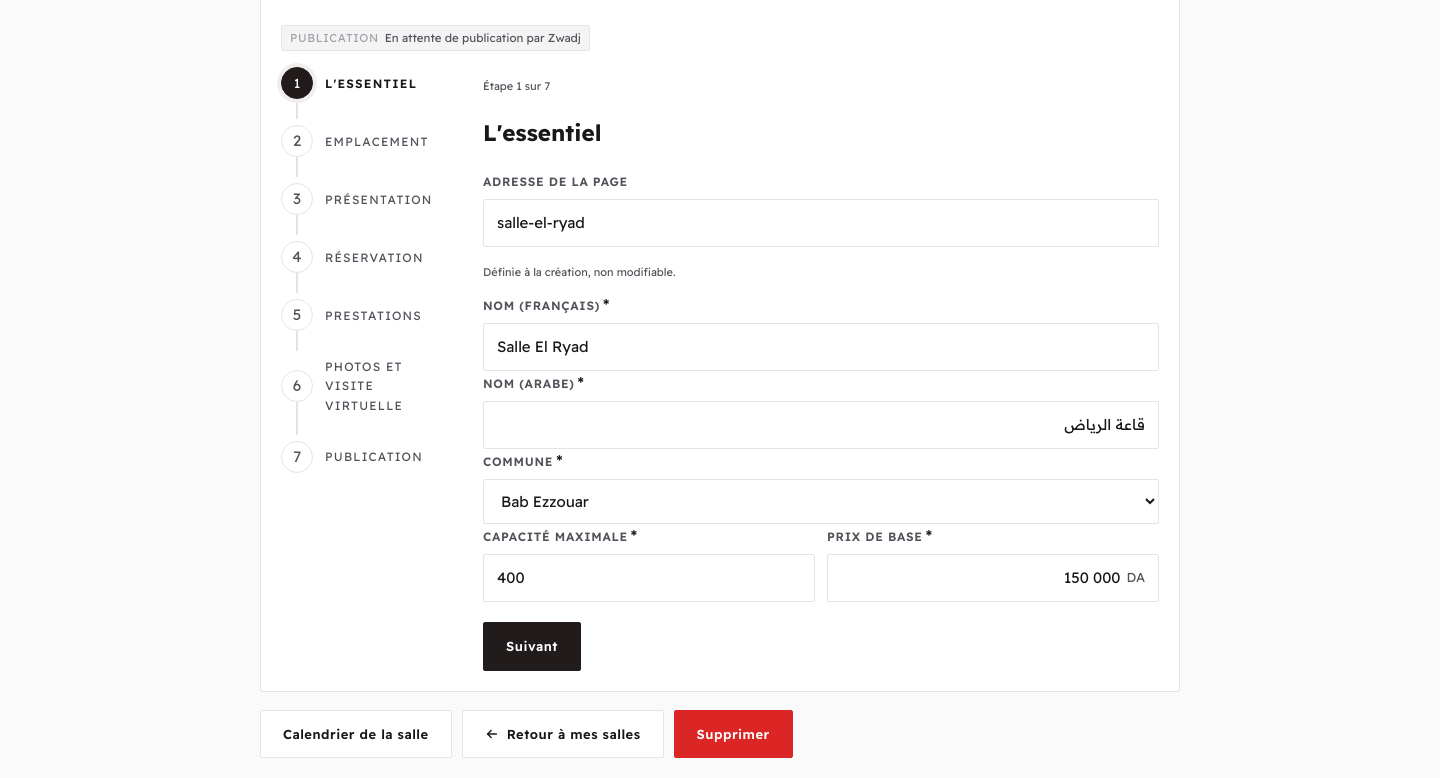
Test: Édition — PATCH par diff, 404 indistinct, équipements › ⚠ aucune modification : on AVANCE sans PATCH — l'avertissement a disparu (UIP-C)
The width and height of the screenshot is (1440, 778).
(page scrolled)
Expected: the field showing "Salle El Ryad" is shown, [483,323,1159,371]
Click the button "Suivant" at [532, 646], box [483,622,581,671]
(page scrolled)
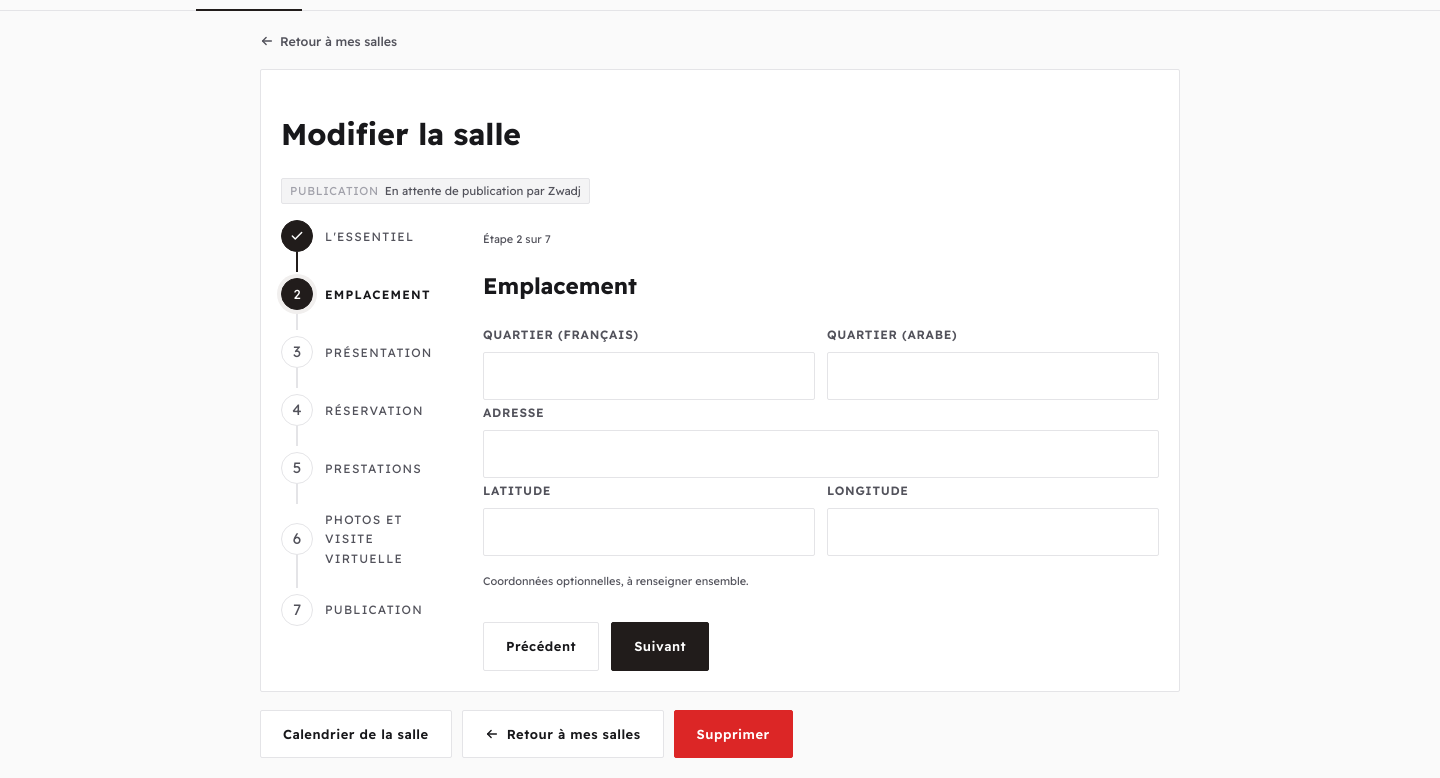
Result: the heading "Emplacement" is shown at [483,270,637,300]
